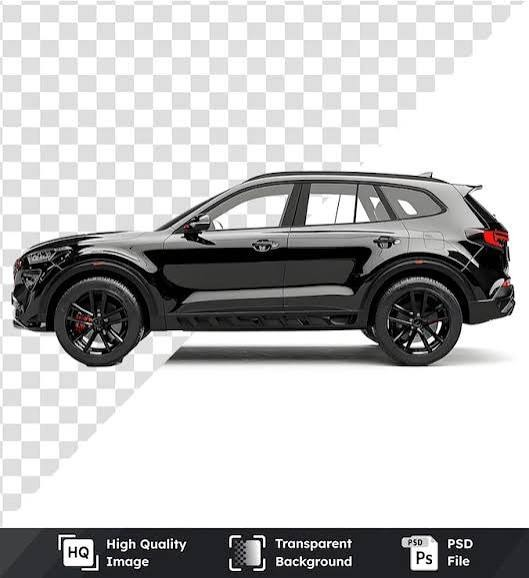car: (6, 99, 529, 347), (23, 169, 524, 384), (23, 167, 524, 381)
